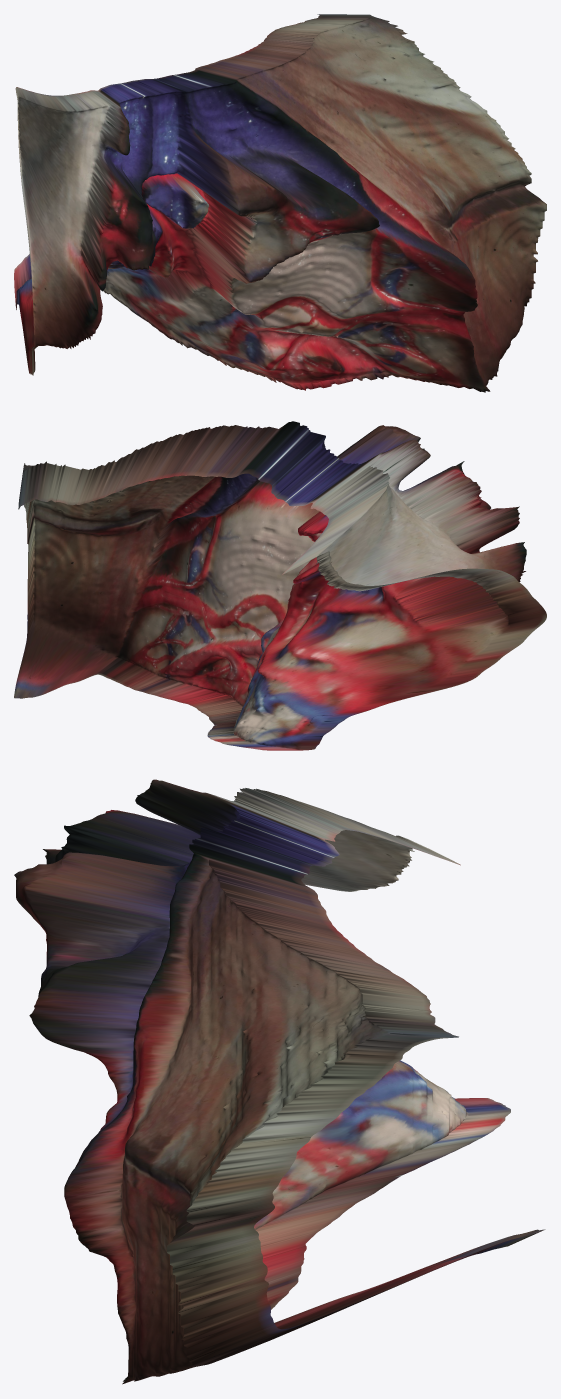
The model's file is supra.glb.
The picture shows the model from 3 angles, top to bottom: view 1: azimuth 30°, elevation 25°; view 2: azimuth 150°, elevation 25°; view 3: azimuth 270°, elevation 25°; orthographic projection. The views are drawn at different scales.
Parts seen in each view (by area): view 1: Object_2; view 2: Object_2; view 3: Object_2.
Part boxes in pixels (x1,y1,x2,y2): Object_2: (14, 14, 546, 392); Object_2: (14, 421, 546, 750); Object_2: (14, 779, 545, 1384).
Bounding box in the file's own units: 15.62 × 9.4 × 11.21.
Materials: 1 (1 with a texture image).
